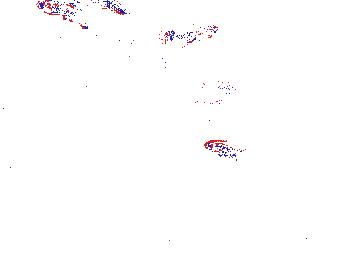X-ray fish: (94, 90, 158, 139), (321, 191, 346, 218)
red belly glassfish: (203, 139, 248, 157), (198, 82, 240, 94)
redtail glassfish: (155, 54, 227, 84), (37, 1, 127, 17), (183, 102, 245, 125), (166, 23, 219, 44), (118, 25, 138, 62)
